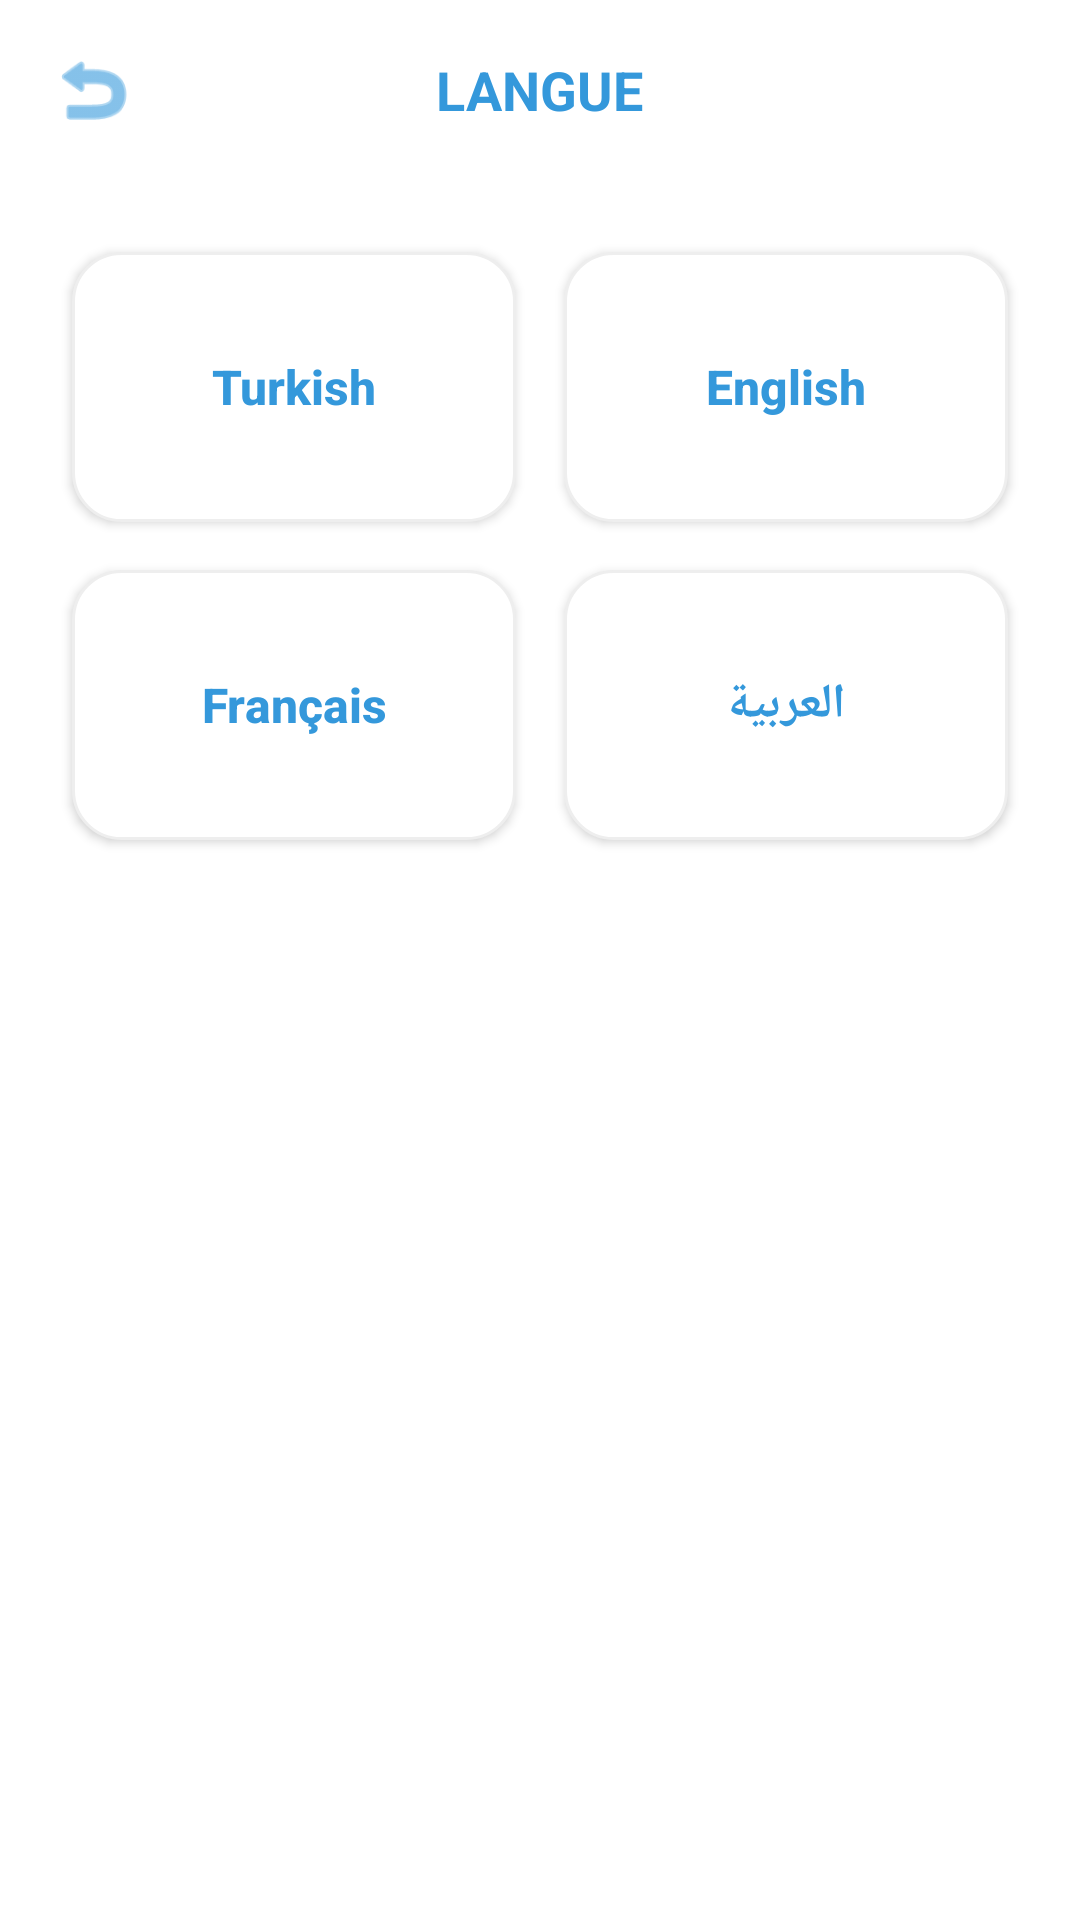

Screen size 1080 x 1920. Icon name, then its center in pixels as (x,y):
revert: (94,90)
